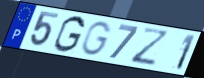1: (174, 33, 197, 72)
5: (29, 10, 61, 48)
7: (107, 23, 141, 62)
G: (52, 15, 87, 54), (80, 20, 113, 57)
Z: (128, 26, 172, 67)
